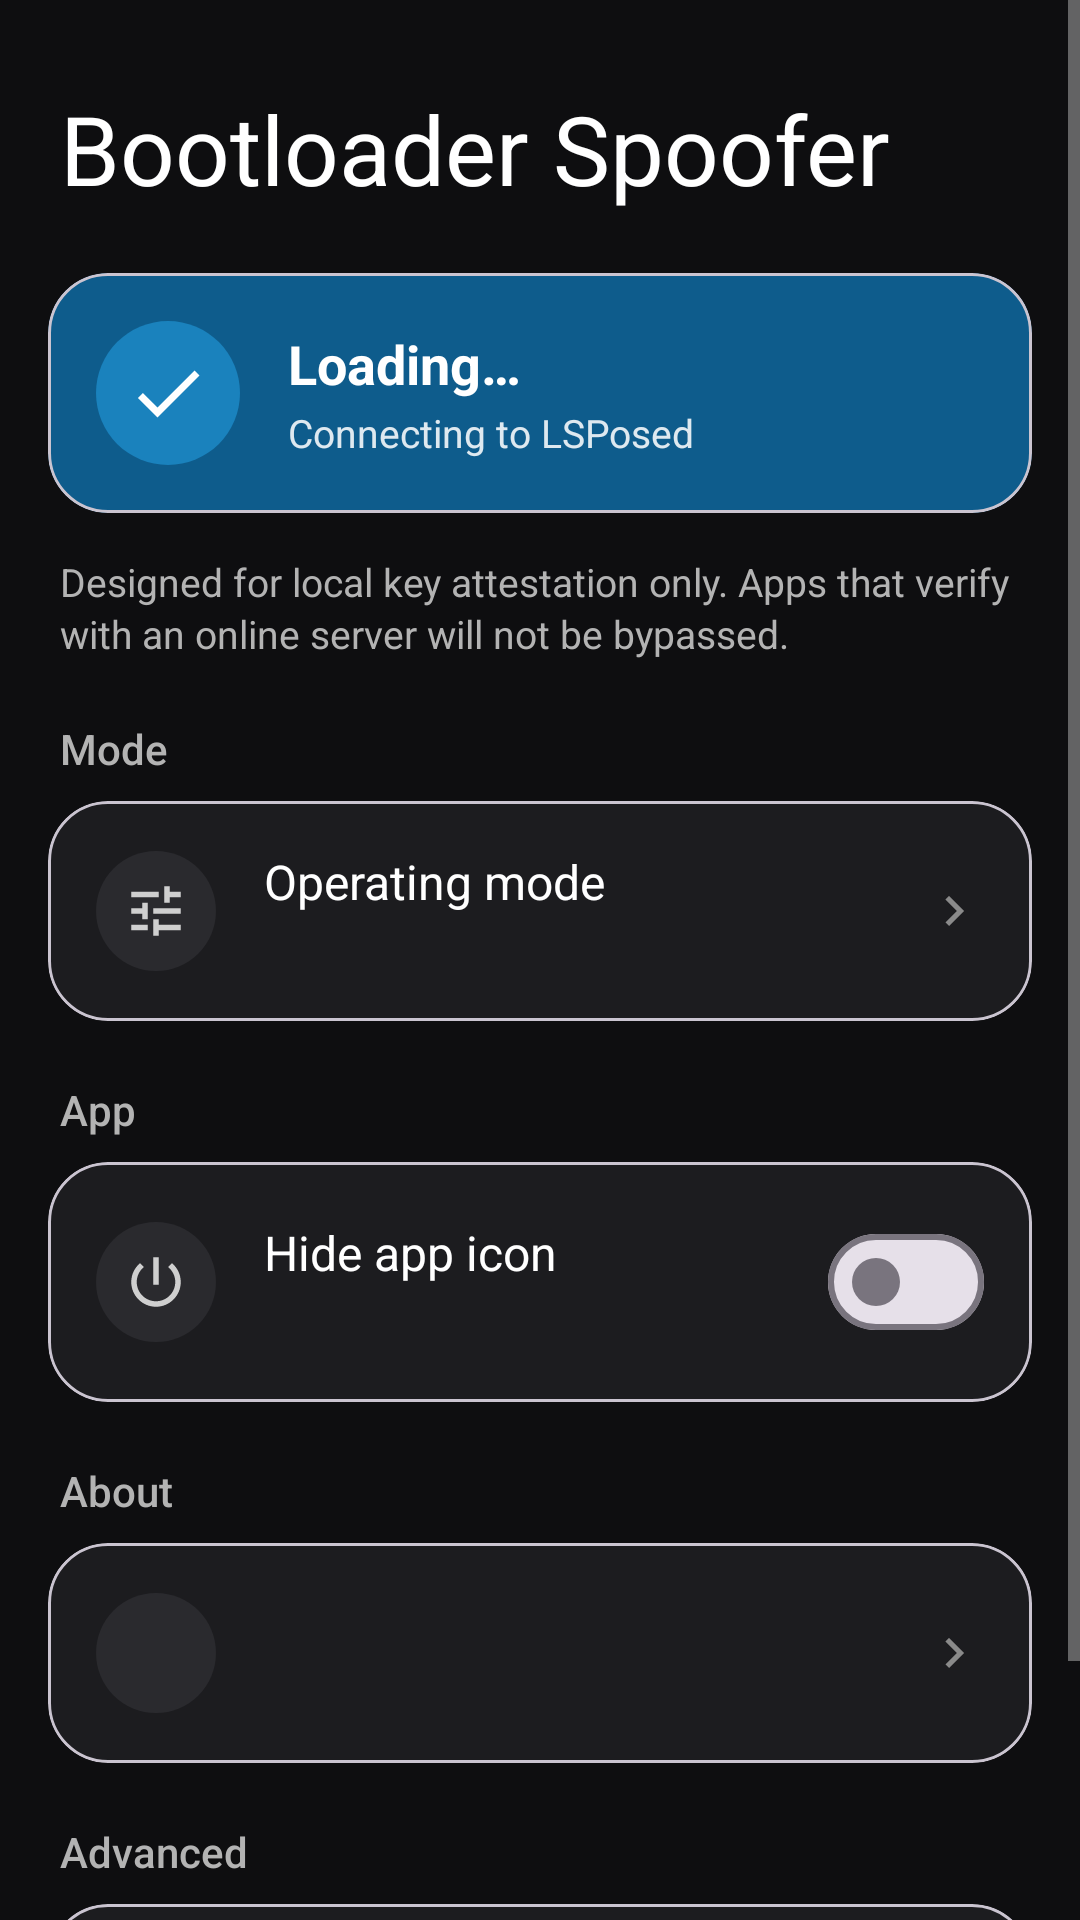

Named icons in this screenshot (1080px×1920px) and their bounding boxes, (x1, y1, x2, y2):
check: (138, 370, 200, 418)
chevron right: (945, 896, 964, 926), (945, 1638, 964, 1668)
off: (131, 1257, 181, 1307)
tune: (131, 886, 181, 936)
